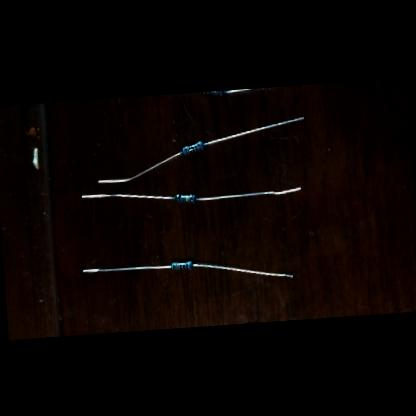resistor: (182, 140, 204, 154), (174, 192, 197, 204), (170, 260, 194, 270), (201, 90, 224, 97)
wire: (204, 116, 306, 146), (97, 150, 183, 183), (193, 256, 294, 283), (82, 187, 174, 204), (196, 186, 300, 200), (83, 262, 171, 274), (226, 88, 254, 93)
